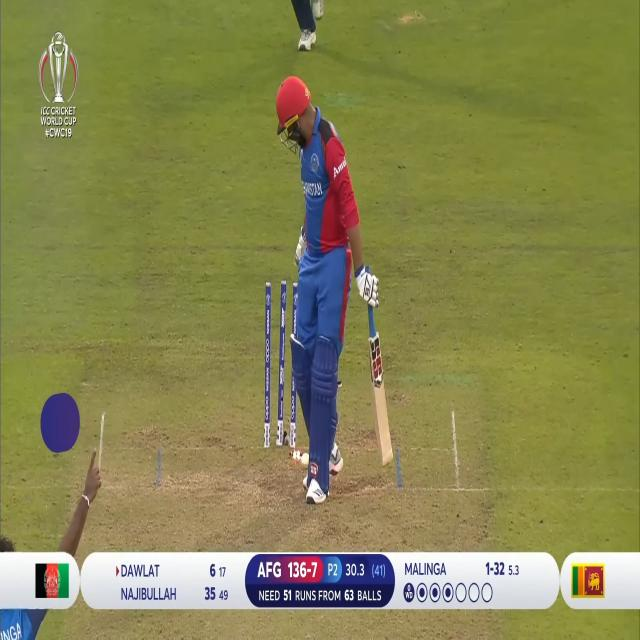ball: (300, 451, 309, 467)
